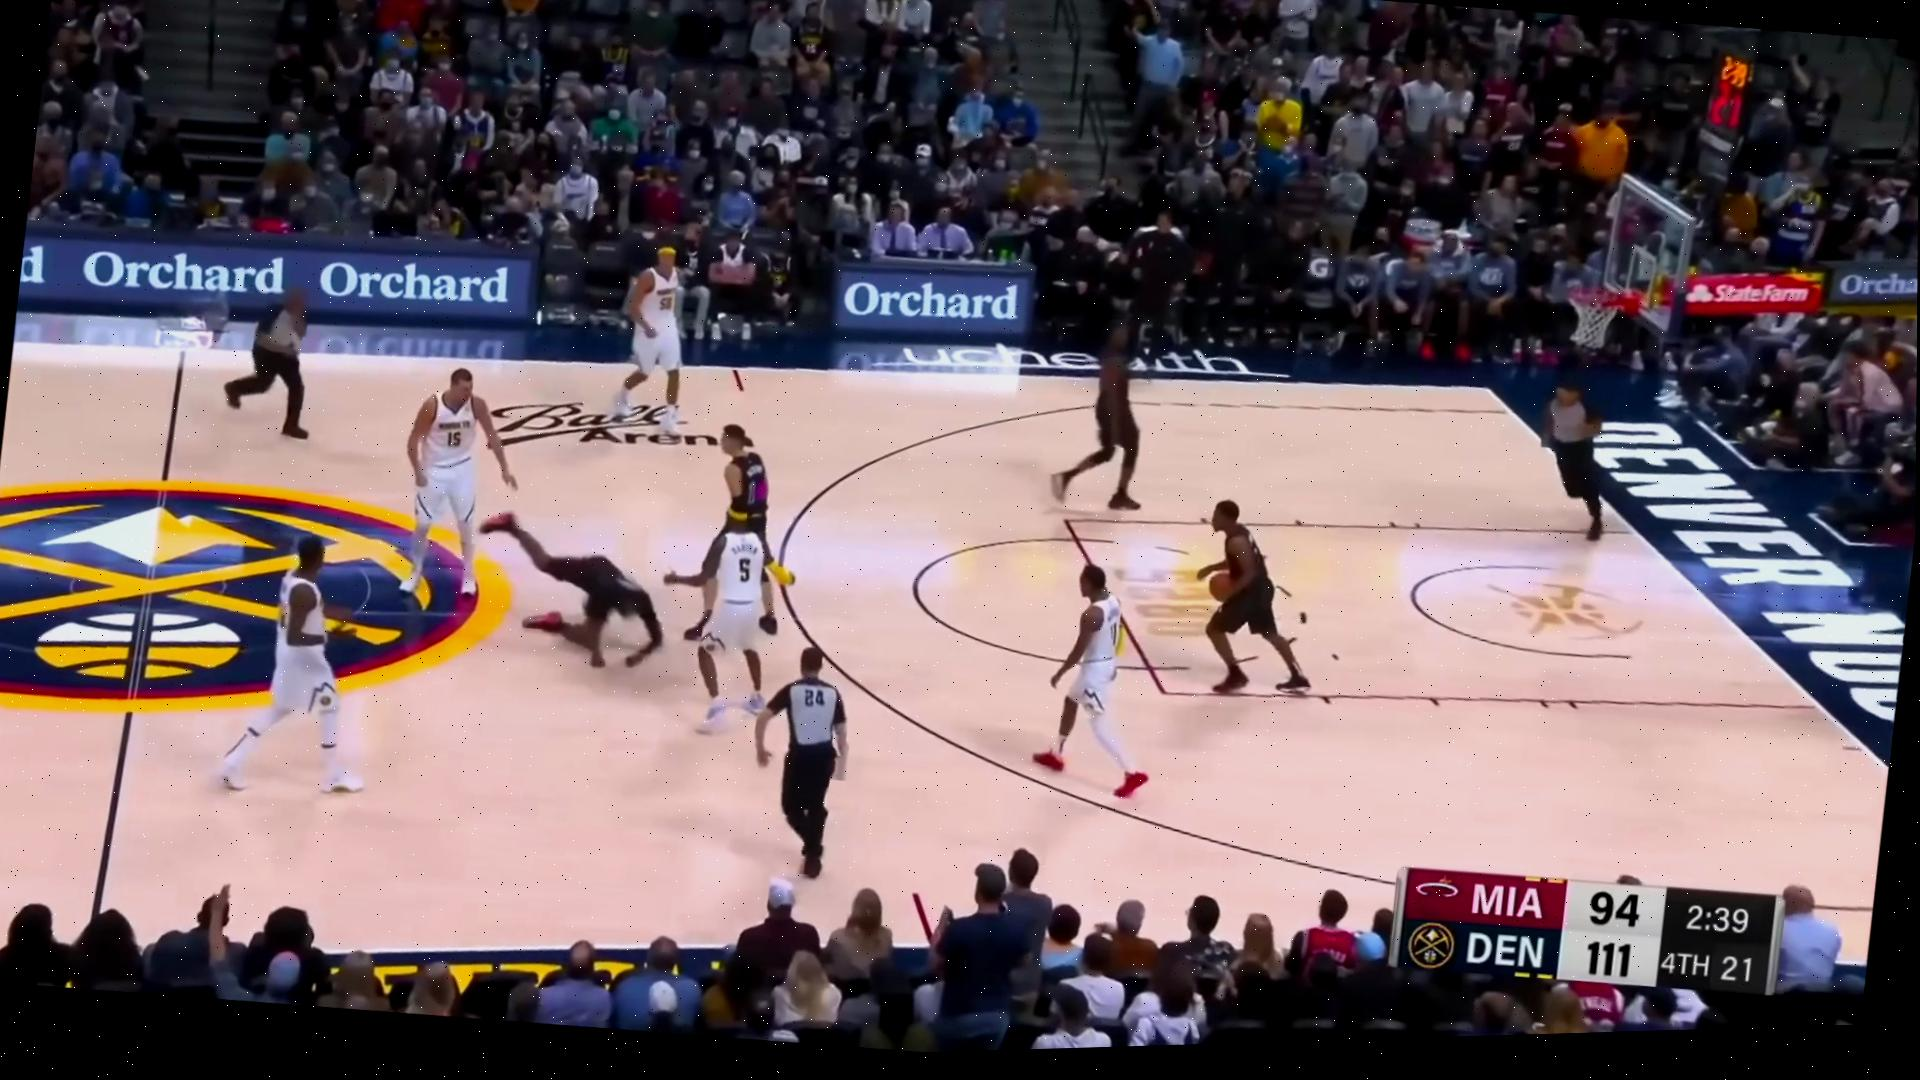foul: (363, 331, 694, 700)
